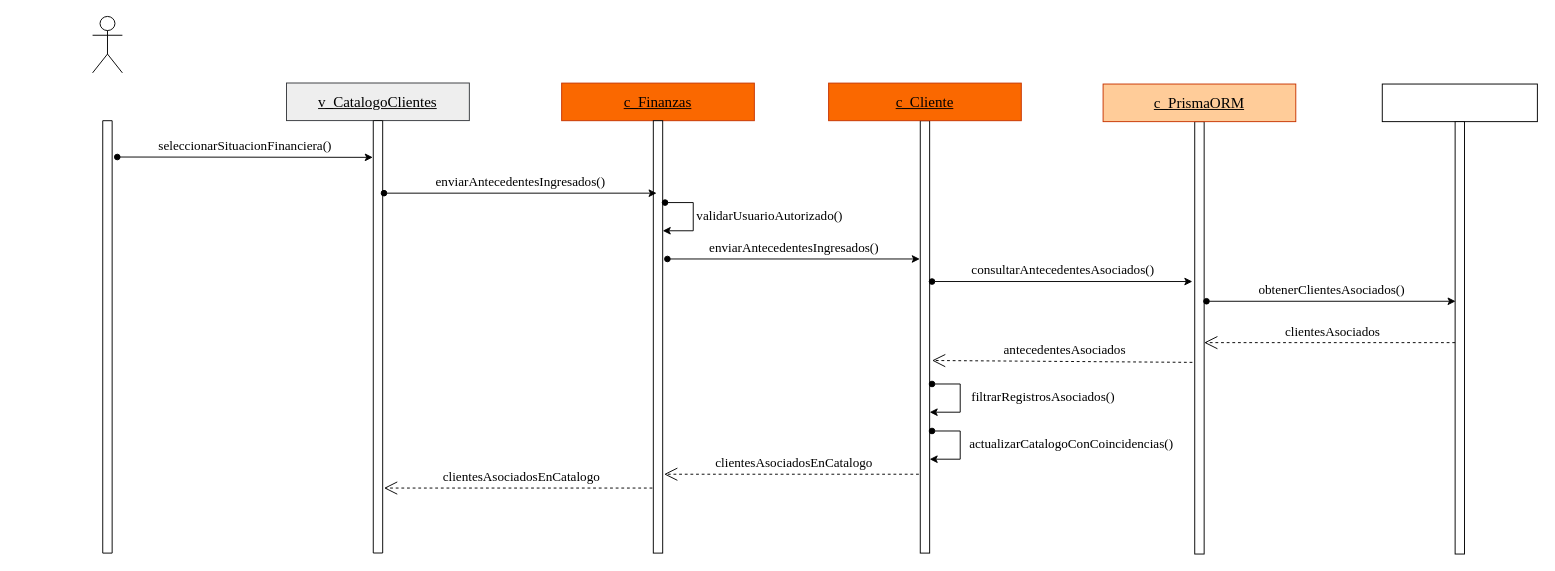
Image size: 1555x571. Some labels were removed from this diagram. The shapes that lost their labels are listed below. From the top down, each one's centre as x and y in pixels, then its label:
the point at 107,44: Usuario Autorizado Gerencia, Secretaria o Contador
the point at 1459,102: cliente
